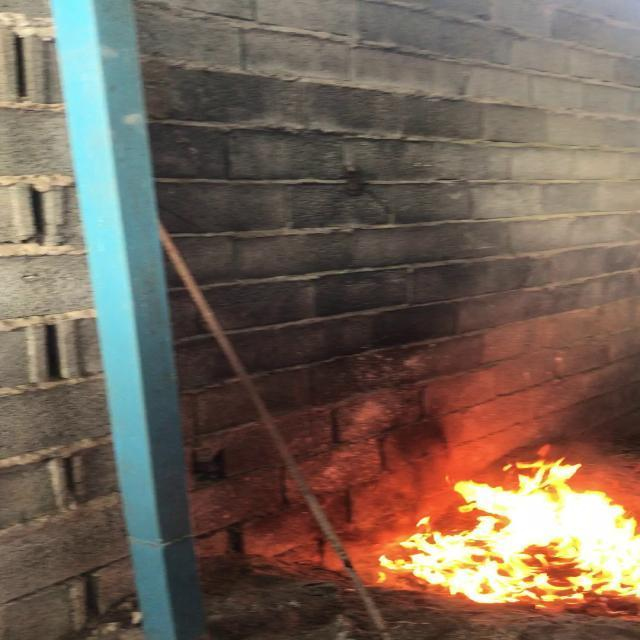Fire: (364, 404, 624, 600)
